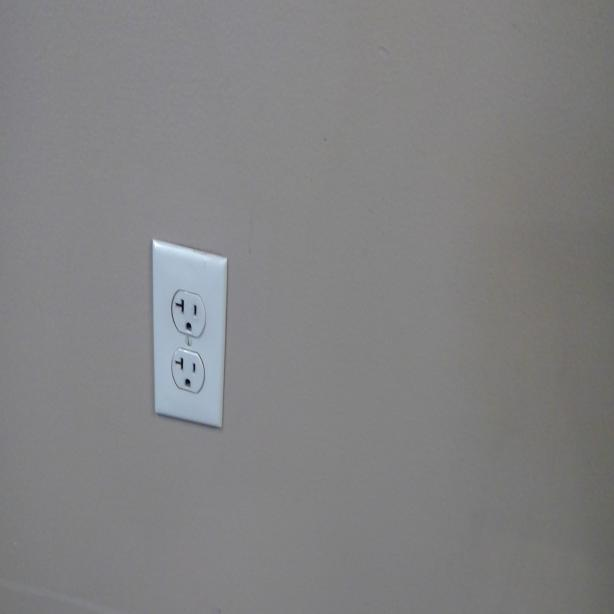typeb: (168, 285, 207, 341), (172, 352, 204, 397)
